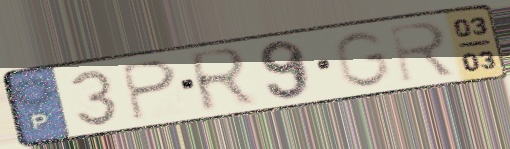3: (63, 67, 122, 128)
9: (254, 37, 313, 103)
G: (330, 29, 394, 90)
P: (117, 58, 181, 124)
R: (184, 44, 261, 118), (385, 19, 459, 86)
